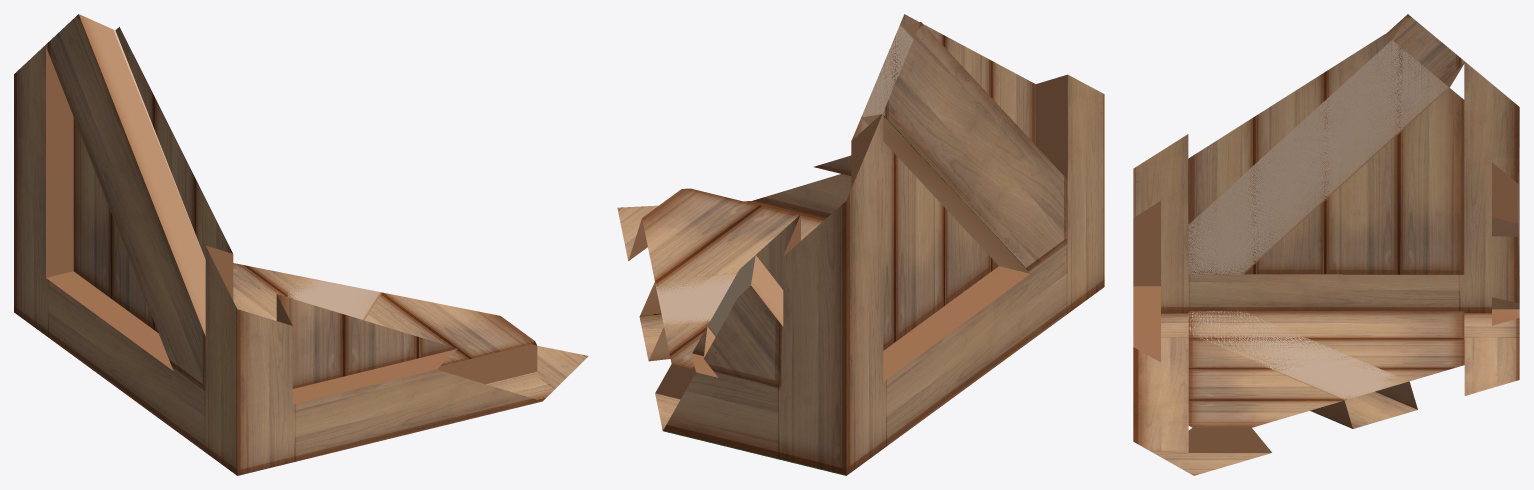
File: brokenbox1.FBX
The picture shows the model from 3 angles, left to right: view 1: azimuth 30°, elevation 25°; view 2: azimuth 150°, elevation 25°; view 3: azimuth 270°, elevation 25°; orthographic projection. The views are drawn at different scales.
Visible parts, largest first — view 1: Box002; view 2: Box002; view 3: Box002.
Boxes of the visible parts, box(x1,y1,x2,y2) form: Box002: box(14, 14, 588, 475); Box002: box(617, 14, 1104, 475); Box002: box(1133, 14, 1519, 475).
Size of the model in its own units: 1.4 by 1.2 by 1.4.
